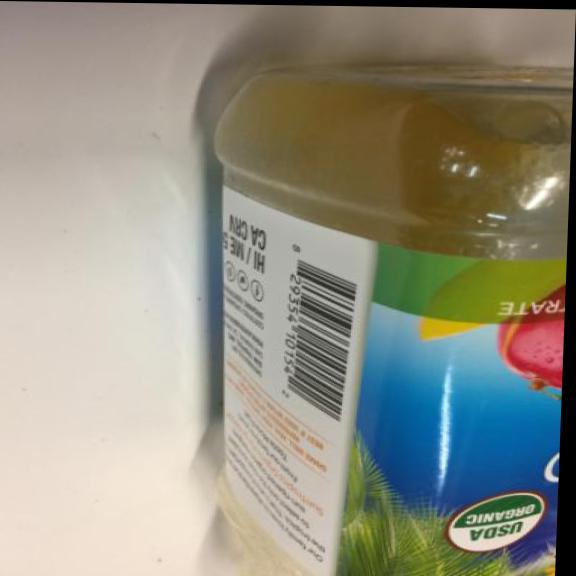Plastik: (163, 42, 575, 576)
